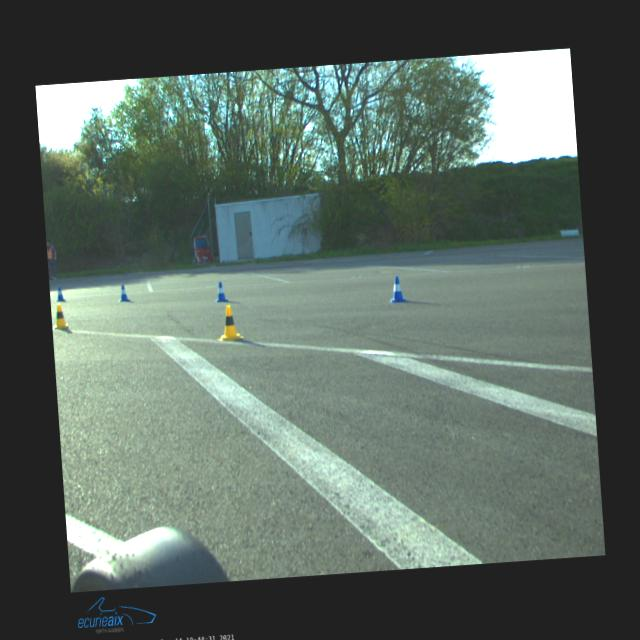blue_cone: (388, 276, 408, 302), (215, 281, 229, 302), (118, 283, 130, 301), (55, 286, 65, 302)
yellow_cone: (216, 304, 243, 341), (51, 303, 69, 329)
